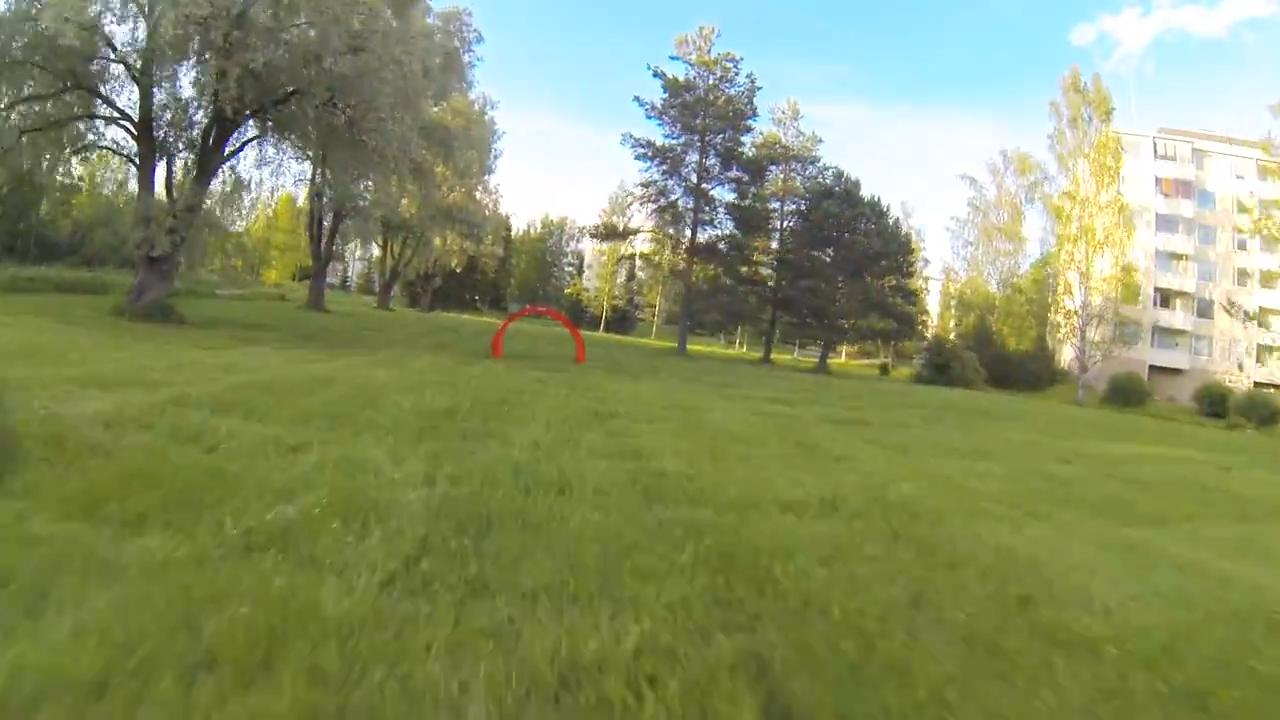gate: (488, 305, 585, 367)
